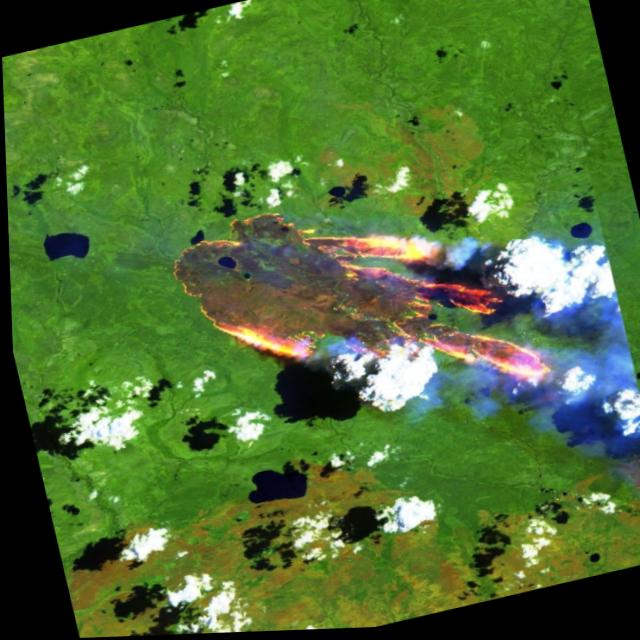fire: (151, 147, 563, 464)
